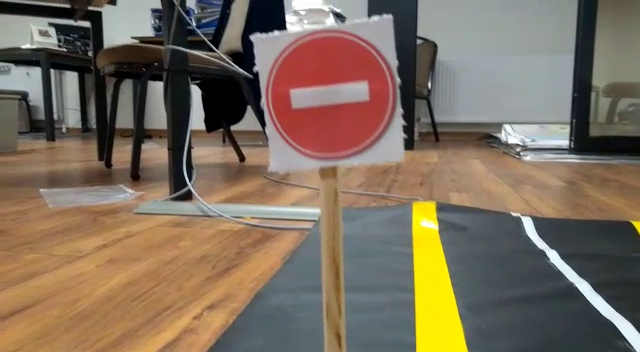girisi_olmayan_yol: (259, 30, 401, 161)
